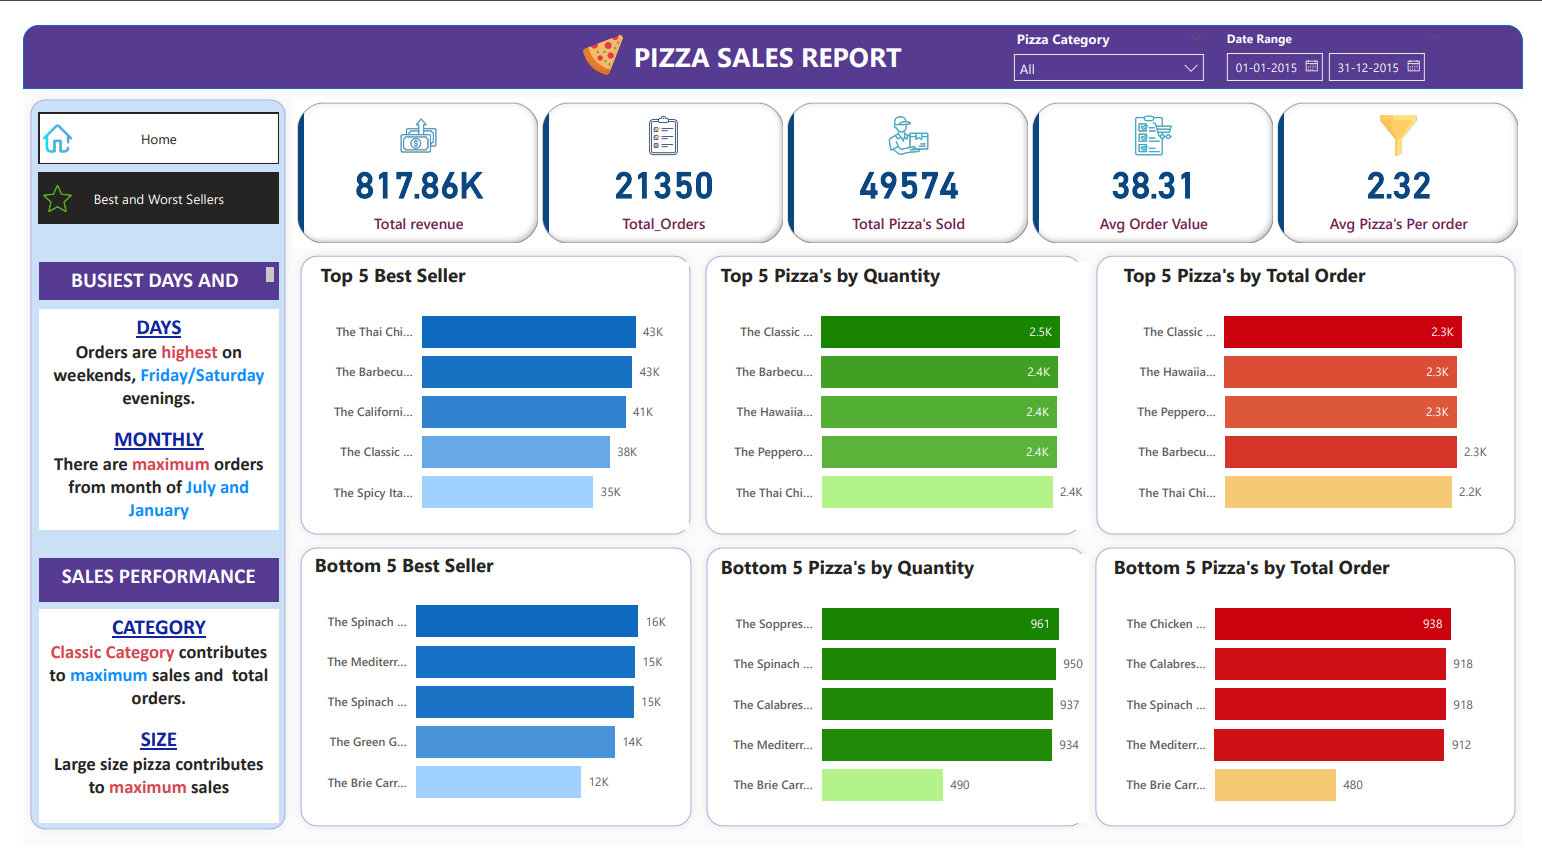

The page's visual inventory and layout, read from the dashboard file:
{"tool":"powerbi","page":{"name":"Best and Worst Sellers","canvas":[1500,820],"ordinal":1},"visuals":[{"type":"shape","box":[0,67.3,270.3,744.5],"z":0},{"type":"textbox","box":[16.3,236.6,239.7,38.8],"z":1000},{"type":"cardVisual","fields":{"Data":["pizza_sales_excel_file.Total revenue","pizza_sales_excel_file.Total_Orders","pizza_sales_excel_file.Total Pizza's Sold","pizza_sales_excel_file.Avg Order Value","pizza_sales_excel_file.Avg Pizza's Per order"]},"box":[270.5,73.2,1229.5,150],"z":2000},{"type":"shape","box":[0,0,1500,64],"z":3000},{"type":"textbox","box":[605.7,8.2,287.2,47.6],"z":4000},{"type":"image","box":[554,5.4,51.7,50.4],"z":5000},{"type":"shape","box":[270.3,223.4,404.9,293.7],"z":6000},{"type":"shape","box":[675.2,223.4,390.6,293.7],"z":8000},{"type":"shape","box":[270.5,515,405.1,294.1],"z":10000},{"type":"shape","box":[675.6,515,394.5,294.1],"z":11000},{"type":"shape","box":[1065.4,515,434.6,294.1],"z":12000},{"type":"slicer","fields":{"Values":["pizza_sales_excel_file.pizza_category"]},"box":[981.5,0,209.1,55.5],"z":16000},{"type":"slicer","fields":{"Values":["pizza_sales_excel_file.order_date"]},"box":[1190.6,0,239.8,67.3],"z":17000},{"type":"textbox","box":[16.3,283.5,239.7,221.3],"z":18000},{"type":"textbox","box":[16.3,533.4,239.7,43.9],"z":19000},{"type":"textbox","box":[16.3,584.4,239.7,213.2],"z":20000},{"type":"shape","box":[1065.8,223.4,434.5,293.7],"z":20001},{"type":"barChart","title":"Top 5 Best Seller","fields":{"Category":["pizza_sales_excel_file.pizza_name"],"Y":["pizza_sales_excel_file.Total revenue"]},"box":[292.6,236.8,373,268.1],"z":20002},{"type":"barChart","title":"Bottom 5 Best Seller","fields":{"Category":["pizza_sales_excel_file.pizza_name"],"Y":["pizza_sales_excel_file.Total revenue"]},"box":[287.2,526.8,373,268.1],"z":20003},{"type":"barChart","title":"Top 5 Pizza''s by Quantity","fields":{"Category":["pizza_sales_excel_file.pizza_name"],"Y":["pizza_sales_excel_file.Total Pizza's Sold"]},"box":[692.8,236.8,373,268.1],"z":20004},{"type":"barChart","title":"Bottom 5 Pizza''s by Quantity","fields":{"Category":["pizza_sales_excel_file.pizza_name"],"Y":["pizza_sales_excel_file.Total Pizza's Sold"]},"box":[692.8,529.5,373,268.1],"z":20005},{"type":"barChart","title":"Top 5 Pizza''s by Total Order","fields":{"Category":["pizza_sales_excel_file.pizza_name"],"Y":["pizza_sales_excel_file.Total_Orders"]},"box":[1095.7,236.8,373,268.1],"z":20006},{"type":"barChart","title":"Bottom 5 Pizza''s by Total Order","fields":{"Category":["pizza_sales_excel_file.pizza_name"],"Y":["pizza_sales_excel_file.Total_Orders"]},"box":[1086.2,529.5,373,268.1],"z":20007},{"type":"pageNavigator","box":[16.3,88.5,239.6,50.4],"z":20008},{"type":"pageNavigator","box":[16.3,148.4,239.6,50.4],"z":20009},{"type":"image","box":[16.3,155.2,38.1,38.1],"z":20010},{"type":"image","box":[16.3,95.3,38.1,38.1],"z":20011}]}

Visuals, with their boxes in screenshot pixels (x1, y1, x2, y2), scaled from the page's 1500x820 canvas onto the 1542x865 screenshot:
shape: crop(0, 71, 278, 856)
textbox: crop(17, 250, 263, 291)
cardVisual - pizza_sales_excel_file.Total revenue x pizza_sales_excel_file.Total_Orders: crop(278, 77, 1541, 235)
shape: crop(0, 0, 1541, 68)
textbox: crop(623, 9, 918, 59)
image: crop(570, 6, 623, 59)
shape: crop(278, 236, 694, 545)
shape: crop(694, 236, 1096, 545)
shape: crop(278, 543, 695, 854)
shape: crop(695, 543, 1100, 854)
shape: crop(1095, 543, 1541, 854)
slicer - pizza_sales_excel_file.pizza_category: crop(1009, 0, 1224, 59)
slicer - pizza_sales_excel_file.order_date: crop(1224, 0, 1470, 71)
textbox: crop(17, 299, 263, 533)
textbox: crop(17, 563, 263, 609)
textbox: crop(17, 616, 263, 841)
shape: crop(1096, 236, 1541, 545)
"Top 5 Best Seller" barChart: crop(301, 250, 684, 533)
"Bottom 5 Best Seller" barChart: crop(295, 556, 679, 839)
"Top 5 Pizza''s by Quantity" barChart: crop(712, 250, 1096, 533)
"Bottom 5 Pizza''s by Quantity" barChart: crop(712, 559, 1096, 841)
"Top 5 Pizza''s by Total Order" barChart: crop(1126, 250, 1510, 533)
"Bottom 5 Pizza''s by Total Order" barChart: crop(1117, 559, 1500, 841)
pageNavigator: crop(17, 93, 263, 147)
pageNavigator: crop(17, 157, 263, 210)
image: crop(17, 164, 56, 204)
image: crop(17, 101, 56, 141)
